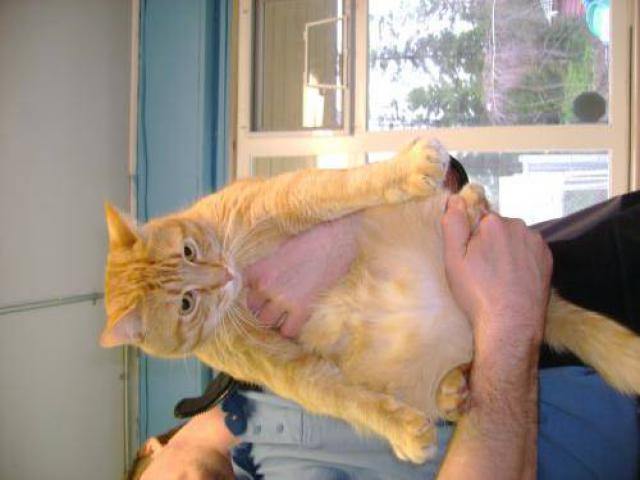cat: (86, 146, 594, 454)
